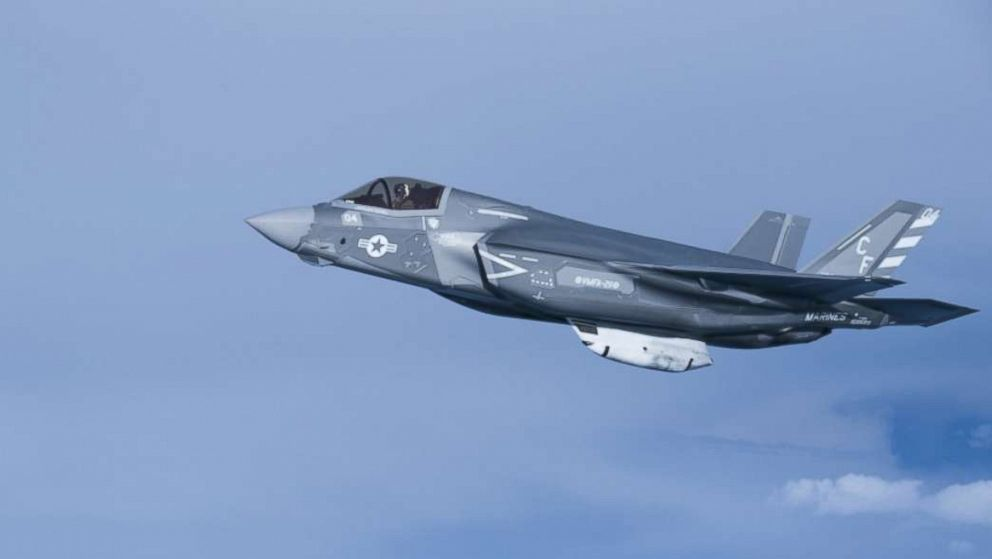F-35 Lightning: (225, 117, 983, 421)
